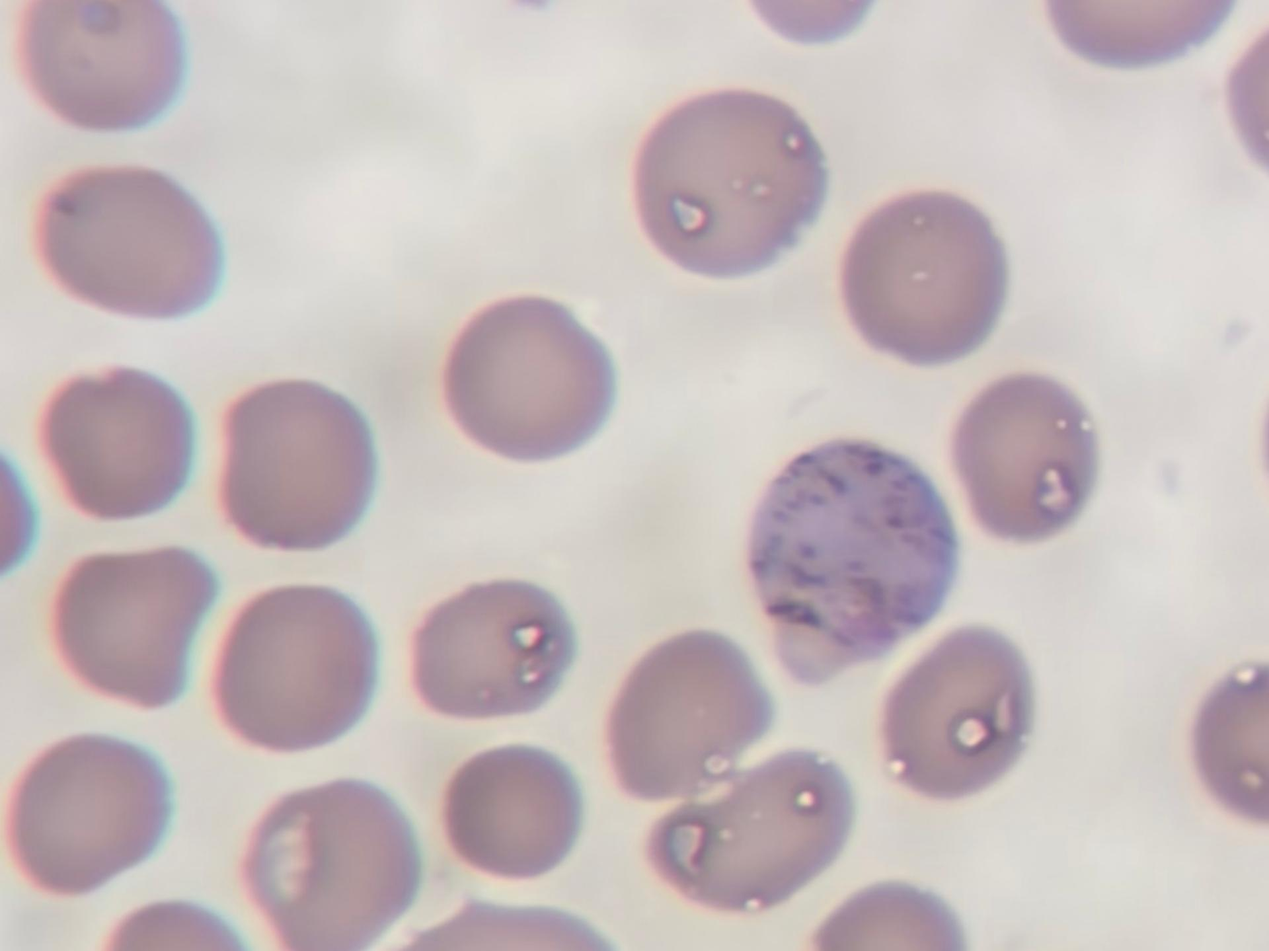Infected: (749, 433, 958, 684)
Uninfected: (639, 87, 830, 277), (637, 750, 852, 912), (236, 781, 420, 951), (445, 296, 617, 462), (216, 380, 379, 555), (9, 737, 184, 900), (35, 168, 225, 315), (850, 190, 1009, 362), (220, 587, 380, 753), (615, 633, 770, 794), (890, 626, 1030, 796), (59, 551, 214, 702), (956, 375, 1096, 540), (410, 582, 580, 716), (13, 0, 187, 129), (48, 371, 195, 520), (441, 745, 583, 878)
